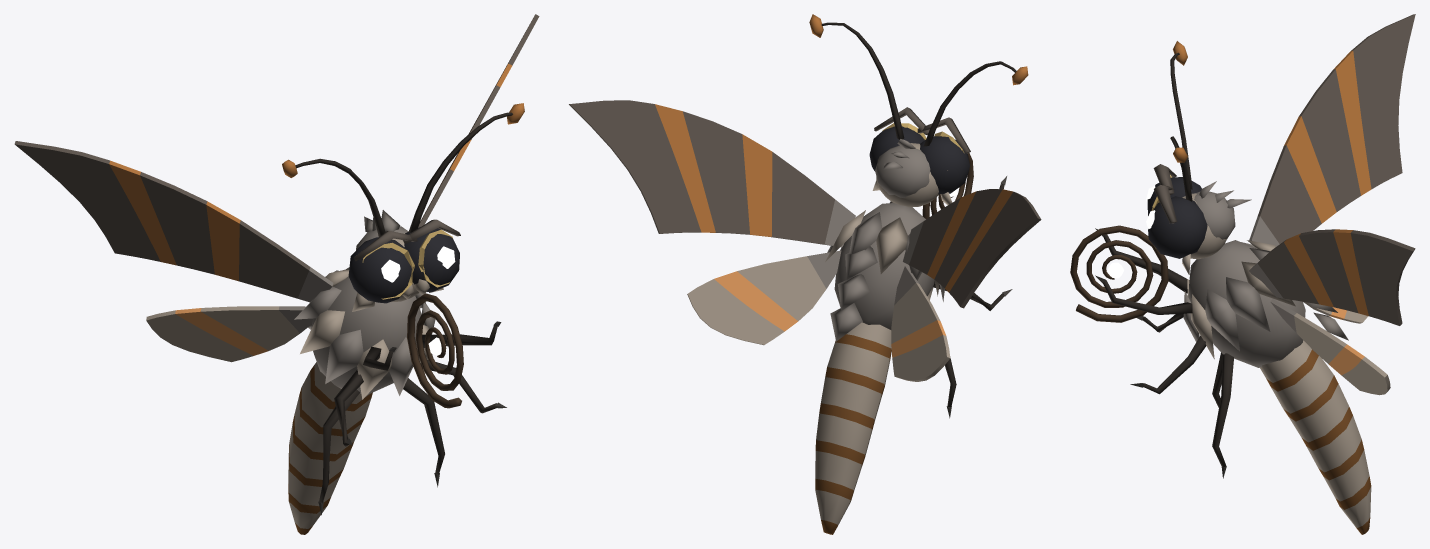
The model's file is moth-deep-drinker.glb.
3 views of the same model, side by side, from view 1: azimuth 30°, elevation 25°; view 2: azimuth 150°, elevation 25°; view 3: azimuth 270°, elevation 25° (orthographic). The views are drawn at different scales.
Visible parts, largest first — view 1: beat_wing_1, body, pulse_abdomen, sway_tongue, blink_eye_r, blink_eye_l, turn_head, beat_wing_0, sway_feeler_l, sway_feeler_r; view 2: beat_wing_0, beat_wing_1, pulse_abdomen, body, turn_head, blink_eye_r, sway_feeler_l, blink_eye_l, sway_feeler_r, sway_tongue; view 3: beat_wing_1, body, beat_wing_0, pulse_abdomen, sway_tongue, turn_head, blink_eye_l, sway_feeler_r, blink_eye_r, sway_feeler_l.
Part boxes in pixels (box(x1,y1,x2,y2)): beat_wing_1: box(14, 141, 333, 362); body: box(294, 267, 506, 515); pulse_abdomen: box(288, 362, 372, 534); sway_tongue: box(407, 293, 463, 408); blink_eye_r: box(348, 237, 414, 303); blink_eye_l: box(404, 227, 459, 292); turn_head: box(352, 210, 460, 311); beat_wing_0: box(418, 14, 539, 227); sway_feeler_l: box(408, 103, 524, 232); sway_feeler_r: box(282, 158, 385, 236); beat_wing_0: box(569, 100, 855, 345); beat_wing_1: box(891, 189, 1041, 381); pulse_abdomen: box(815, 322, 891, 534); body: box(825, 176, 1012, 418); turn_head: box(872, 107, 970, 207); blink_eye_r: box(920, 131, 969, 194); sway_feeler_l: box(809, 14, 904, 139); blink_eye_l: box(869, 123, 926, 170); sway_feeler_r: box(923, 61, 1028, 146); sway_tongue: box(922, 153, 973, 219); beat_wing_1: box(1249, 14, 1415, 323); body: box(1095, 228, 1348, 478); beat_wing_0: box(1249, 229, 1415, 395); pulse_abdomen: box(1260, 340, 1371, 534); sway_tongue: box(1070, 225, 1168, 322); turn_head: box(1153, 164, 1251, 274); blink_eye_l: box(1146, 196, 1207, 258); sway_feeler_r: box(1170, 41, 1192, 189); blink_eye_r: box(1146, 175, 1201, 215); sway_feeler_l: box(1170, 136, 1192, 201).
Bounding box in the file's own units: 0.9119 × 0.7897 × 0.5622.
